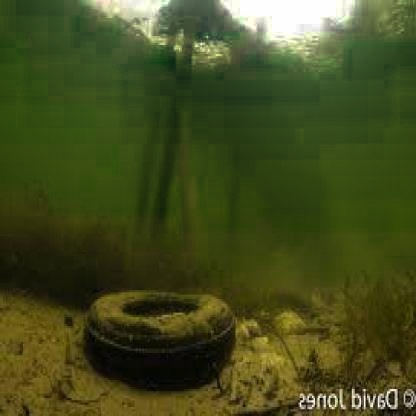tire: (88, 274, 238, 398)
